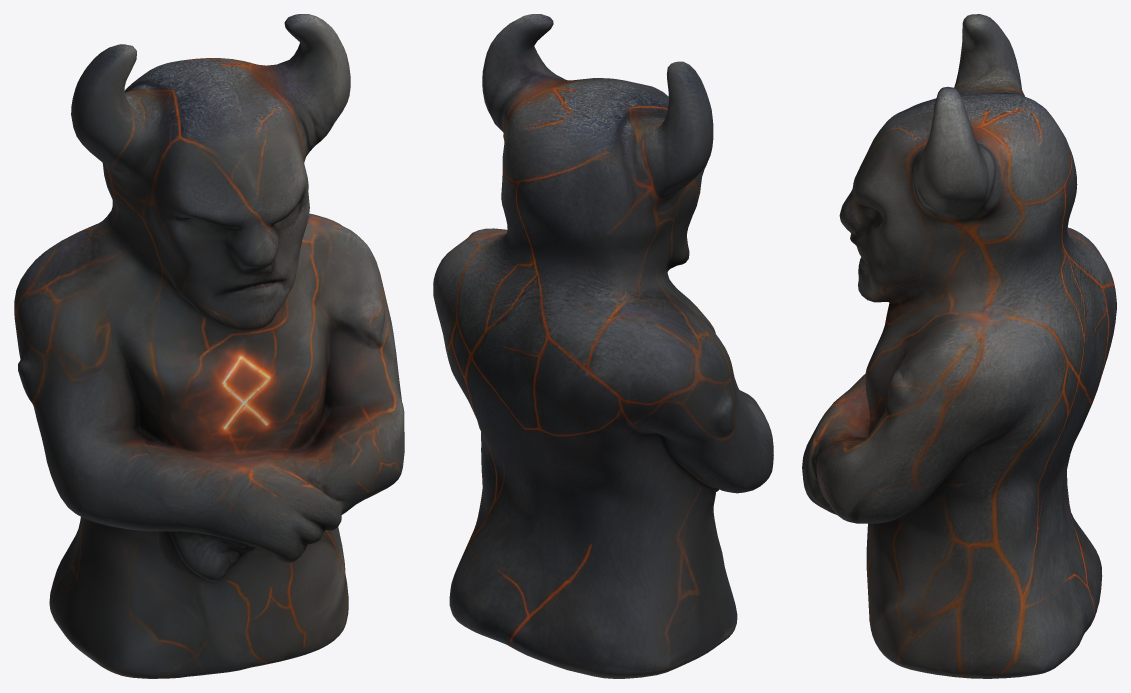
The model's file is ancient_idol.glb.
3 renders of one model, left to right at view 1: azimuth 30°, elevation 25°; view 2: azimuth 150°, elevation 25°; view 3: azimuth 270°, elevation 25°, orthographic. The views are drawn at different scales.
Size of the model in its own units: 1.12 by 2 by 0.9986.
Materials: 1 (1 with a texture image).
